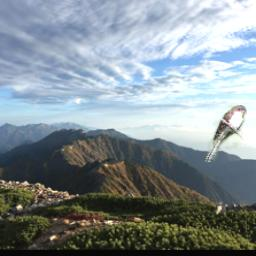Cuckoo: (205, 106, 248, 163)
